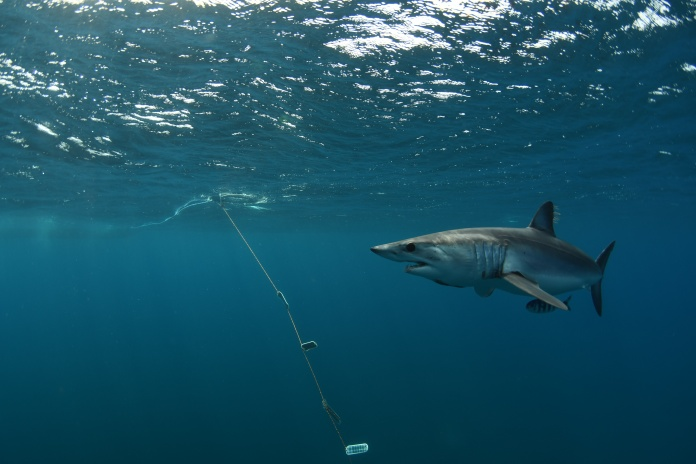Mako: (354, 198, 619, 327)
